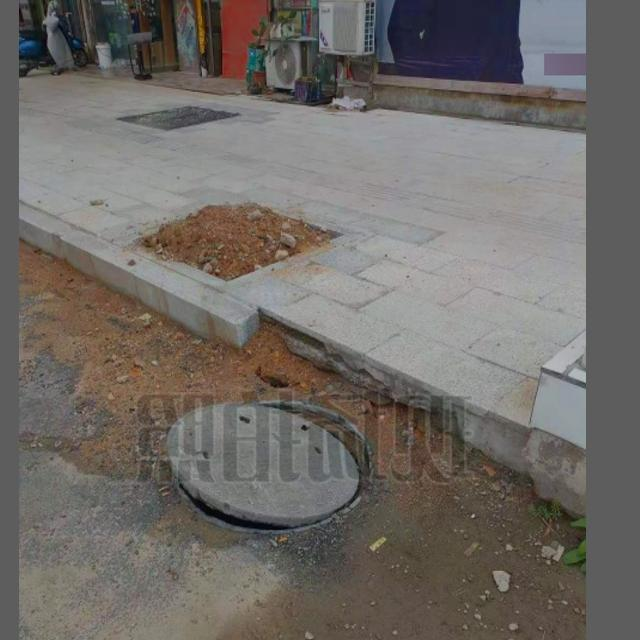uncovered: (168, 397, 375, 534)
